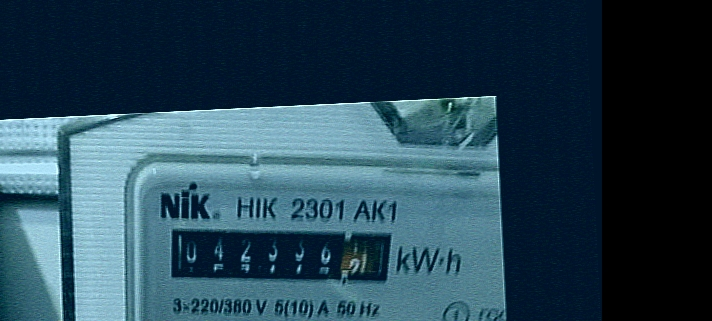0: (182, 238, 196, 268)
2: (234, 238, 253, 265)
3: (261, 236, 278, 266), (290, 236, 305, 265)
4: (208, 238, 225, 266)
6: (315, 241, 331, 269)
screen: (156, 212, 399, 304)
